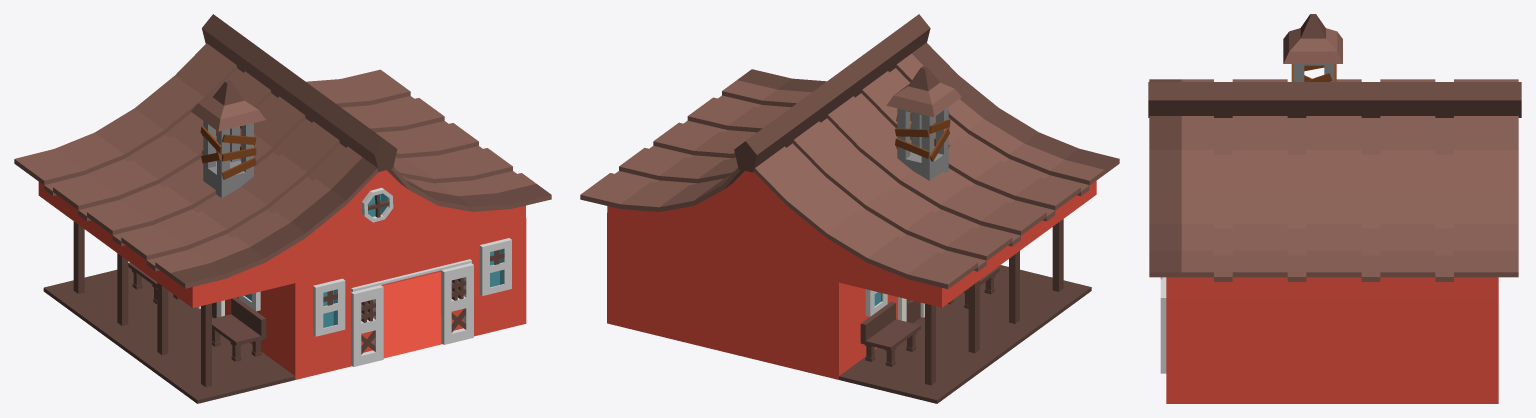
The model's file is farm_house.fbx.
3 renders of one model, left to right at view 1: azimuth 30°, elevation 25°; view 2: azimuth 150°, elevation 25°; view 3: azimuth 270°, elevation 25°, orthographic. The views are drawn at different scales.
Parts seen in each view (by area): view 1: farm_house; view 2: farm_house; view 3: farm_house.
Boxes of the visible parts, x1,y1,x2,y2 form: farm_house: (14,14,551,403); farm_house: (580,14,1119,403); farm_house: (1148,14,1521,403).
Bounding box in the file's own units: 1100 × 711 × 899.
